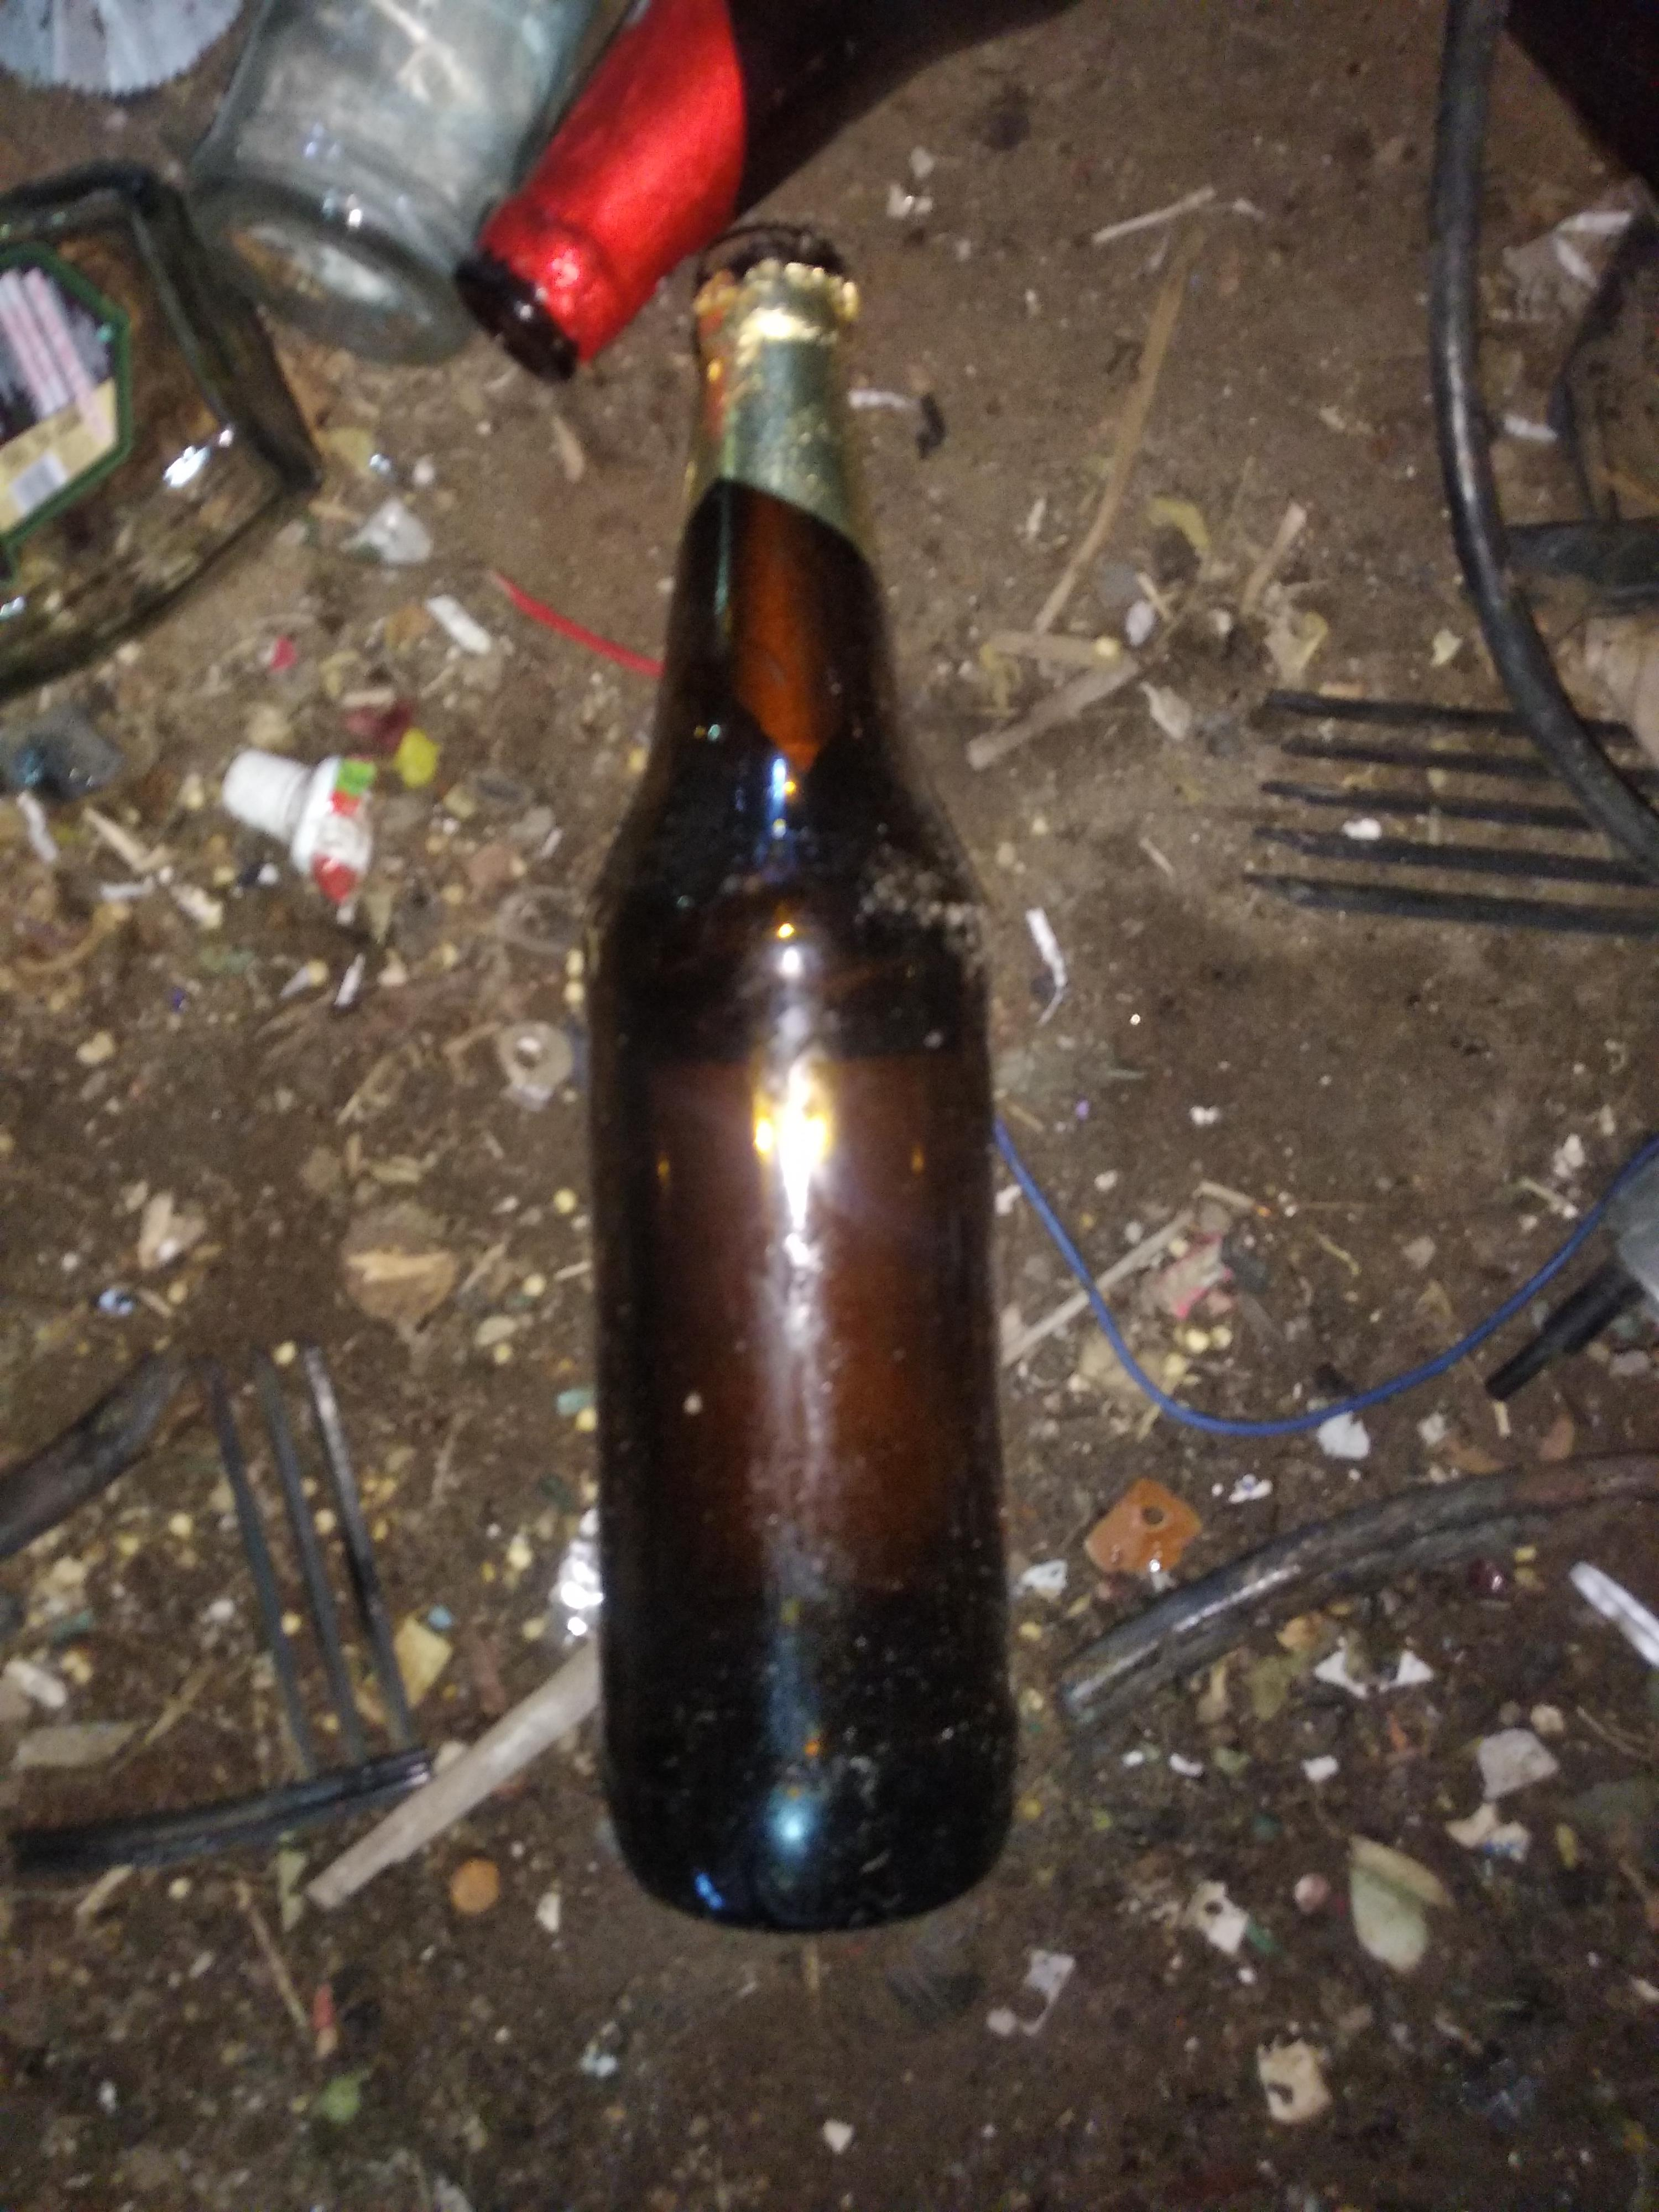organic: (24, 35, 1659, 1965)
